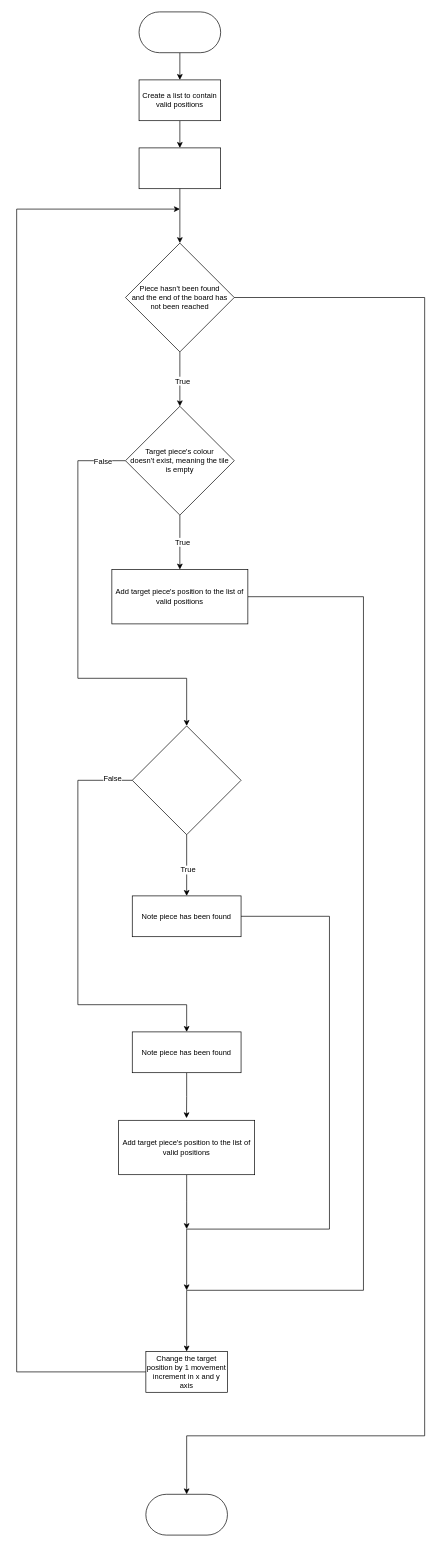
This 442x1547 diagram has some shape labels left out. The centre of each missing label's shape, as x and y in pixels:
Check Surrounding: (x=179, y=32)
Return list of valid positions: (x=186, y=1514)
Target piece's colour belongs to the current player: (x=186, y=780)
Target position to be 1 movement increment more than initial position: (x=179, y=168)
